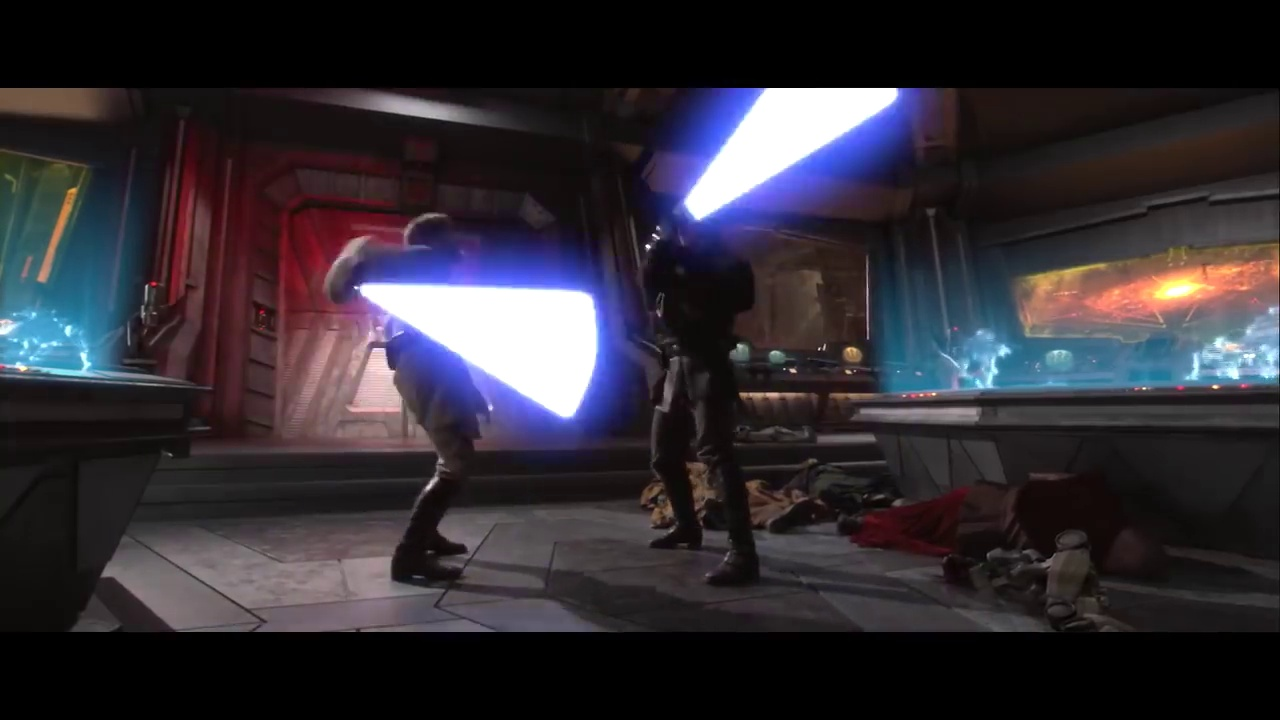lightsaber: (350, 264, 595, 418), (689, 79, 900, 253)
